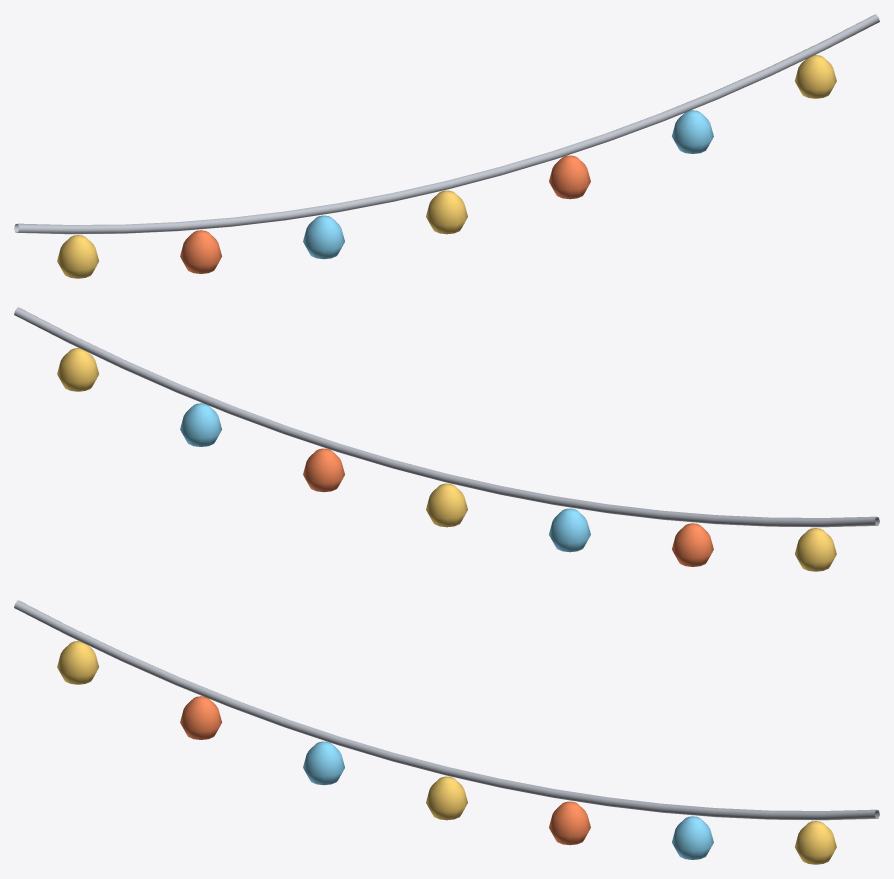
File: HotPotatoLights.obj
3 renders of one model, top to bottom at view 1: azimuth 30°, elevation 25°; view 2: azimuth 150°, elevation 25°; view 3: azimuth 330°, elevation 25°, orthographic.
Visible parts, largest first — view 1: Wire, BulbA, BulbB, BulbC; view 2: Wire, BulbA, BulbB, BulbC; view 3: Wire, BulbA, BulbC, BulbB.
Boxes of the visible parts, bbox=[...] form: Wire: bbox=[14, 14, 879, 234]; BulbA: bbox=[57, 55, 836, 278]; BulbB: bbox=[180, 155, 590, 273]; BulbC: bbox=[303, 110, 713, 259]; Wire: bbox=[14, 307, 879, 527]; BulbA: bbox=[57, 348, 836, 571]; BulbB: bbox=[303, 448, 713, 566]; BulbC: bbox=[180, 403, 590, 552]; Wire: bbox=[14, 600, 879, 820]; BulbA: bbox=[57, 641, 836, 864]; BulbC: bbox=[303, 741, 713, 859]; BulbB: bbox=[180, 696, 590, 845].
Bounding box in the file's own units: 8.02 × 1.01 × 0.34.
